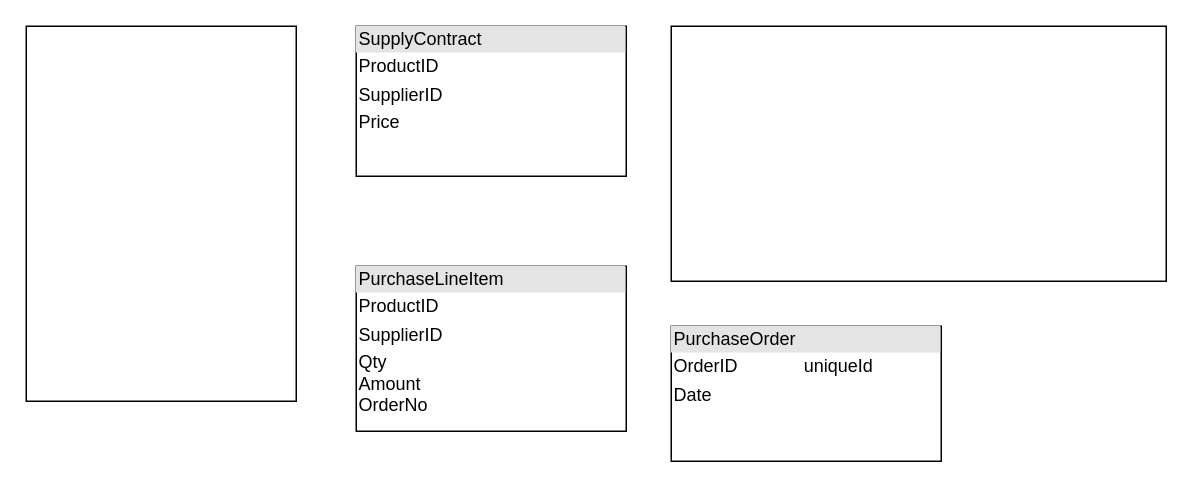
Image size: 1193x488. Some labels were removed from this diagram. Each missing label, with the centre of its shape:
Product ID uniqueId code foreignKey Name Description PhotoLink: point (160, 213)
Supplier ID uniqueId Name Address Email: point (918, 153)
